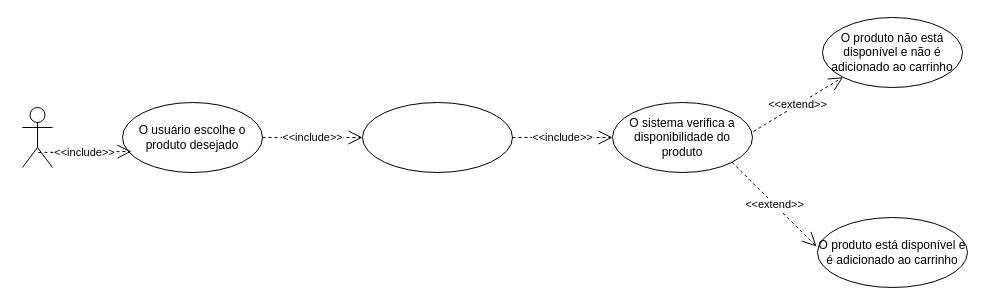
The diagram is 985 pixels wide and 305 high, and some of its shapes have lost their labels. The shapes that lost their labels are listed below. From the top down, each one's box as (x1, y1, x2, y2) in pixels, then its label:
(22, 106, 52, 168): Usuário
(362, 102, 512, 172): O usuário vê as informações do produto e clica em adicionar ao carrinho
